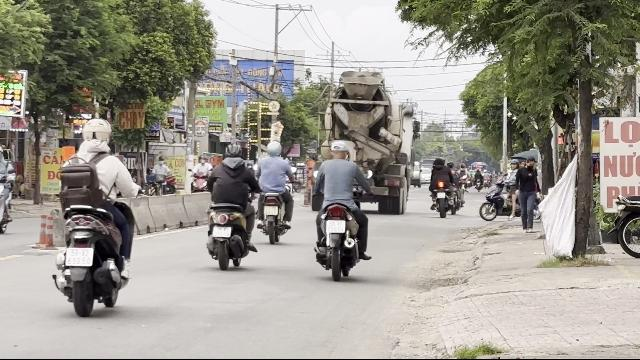helmet: (80, 118, 112, 146), (222, 143, 242, 161), (265, 140, 281, 156)
licenseplate: (66, 247, 92, 265), (326, 219, 346, 232), (213, 226, 231, 238), (264, 205, 278, 215)
motorcyclist: (50, 114, 138, 316), (310, 138, 372, 278), (202, 141, 258, 268), (253, 140, 295, 243)
nohelmet: (329, 140, 349, 160)
